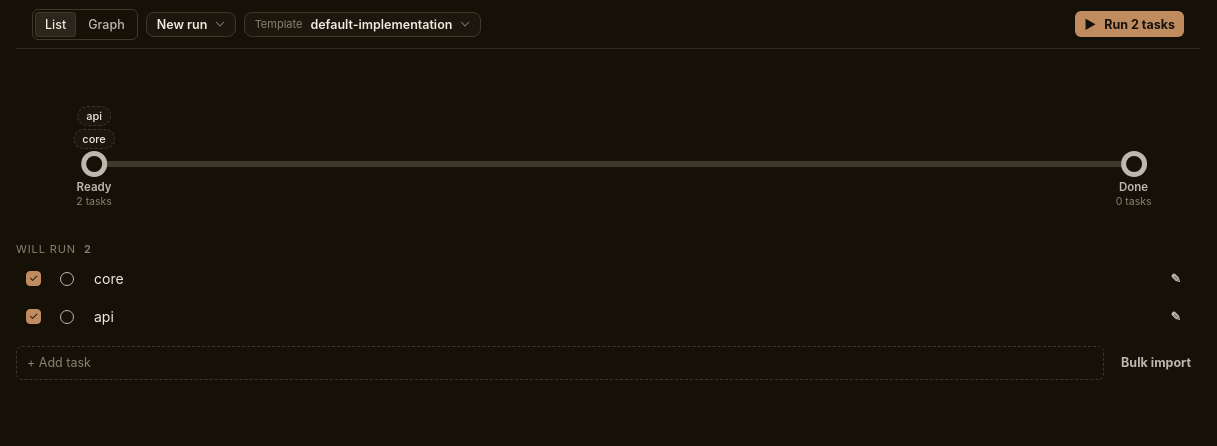
Scenario: TasksTab › Plan (no runs yet) › names the tasks a left-out dependency keeps out
Step 1. Click the checkbox named "Include core" → coordinates (34, 278), box [26, 271, 41, 286]
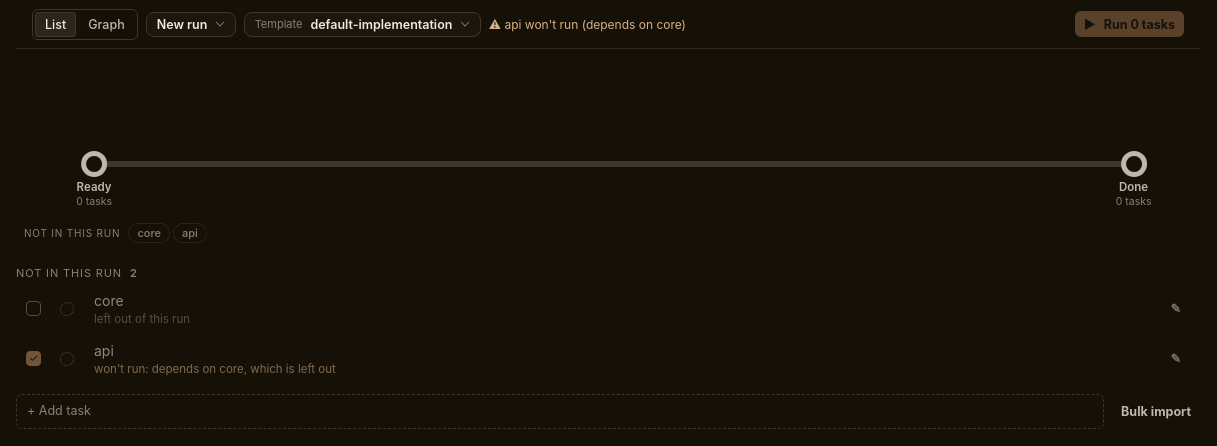
Expected: the text "api won't run (depends on core)" is shown, [504, 16, 686, 32]
